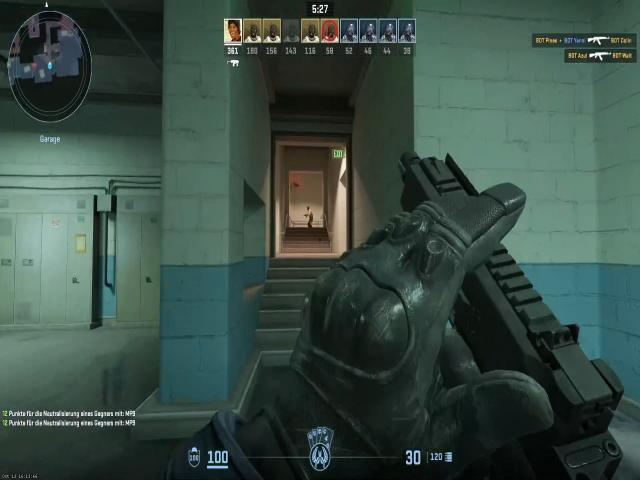T: (304, 206, 314, 224)
